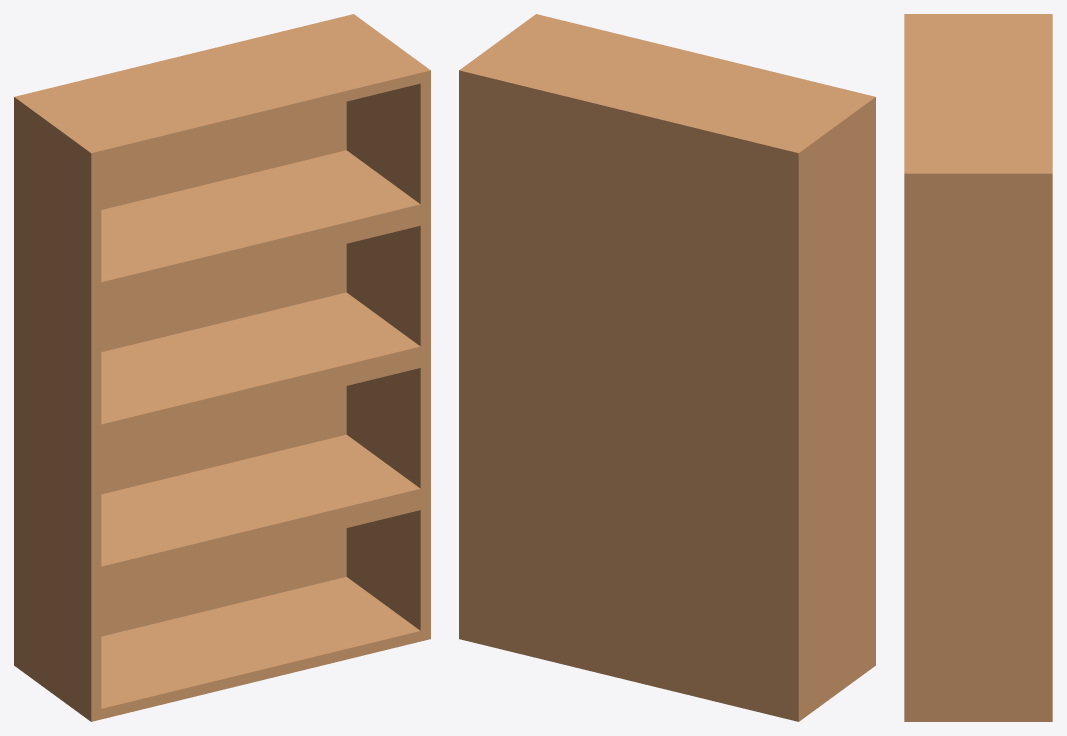
Rendered from bookcase.fbx.
The picture shows the model from 3 angles, left to right: view 1: azimuth 30°, elevation 25°; view 2: azimuth 150°, elevation 25°; view 3: azimuth 270°, elevation 25°; orthographic projection. The views are drawn at different scales.
Visible parts, largest first — view 1: bookcase; view 2: bookcase; view 3: bookcase.
Part boxes in pixels (box(x1,y1,x2,y2)): bookcase: box(14, 14, 430, 721); bookcase: box(459, 14, 875, 721); bookcase: box(904, 14, 1052, 721).
Bounding box in the file's own units: 50 × 80 × 19.64.
Materials: 1 (1 with a texture image).
